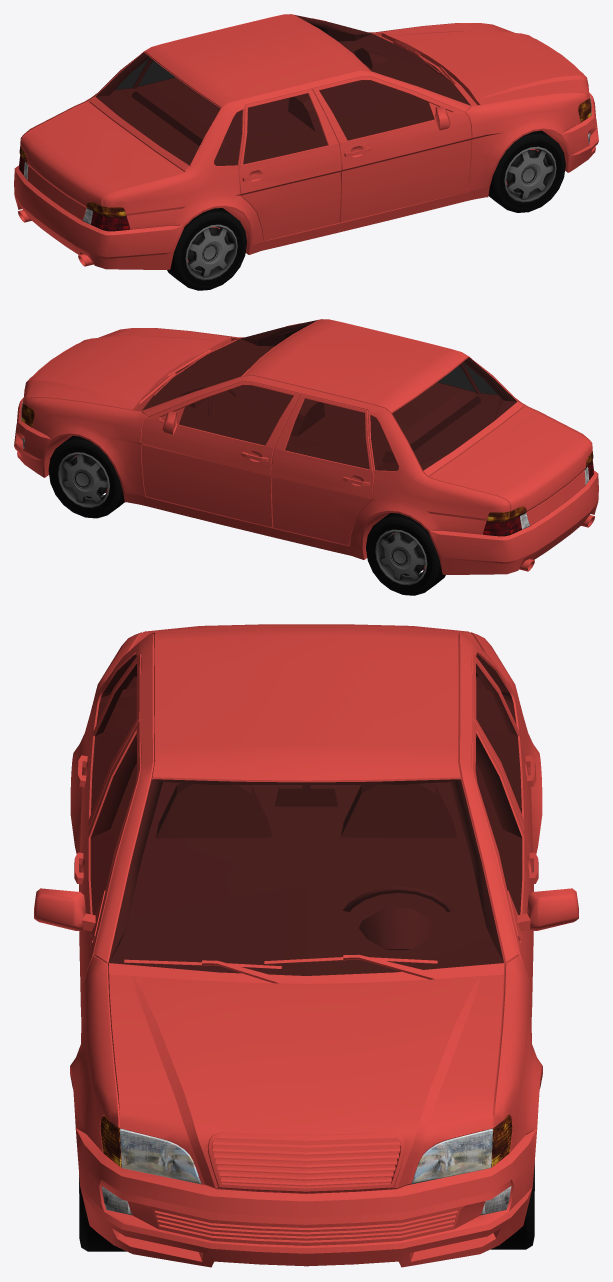
File: traffic_sedan.glb
3 views of the same model, one above another, from view 1: azimuth 30°, elevation 25°; view 2: azimuth 150°, elevation 25°; view 3: azimuth 270°, elevation 25° (orthographic). The views are drawn at different scales.
Visible parts, largest first — view 1: traffic_car2_body, traffic_car2_glass, traffic_car2_wheel_3, traffic_car2_wheel_2, traffic_car2_optics; view 2: traffic_car2_body, traffic_car2_glass, traffic_car2_wheel_1, traffic_car2_wheel_0, traffic_car2_optics; view 3: traffic_car2_body, traffic_car2_glass, traffic_car2_optics, traffic_car2_wheel_2, traffic_car2_wheel_0.
Part boxes in pixels (left/top/right/bottom): traffic_car2_body: left=14, top=14, right=598, bottom=269; traffic_car2_glass: left=95, top=15, right=470, bottom=165; traffic_car2_wheel_3: left=167, top=208, right=246, bottom=290; traffic_car2_wheel_2: left=488, top=130, right=565, bottom=212; traffic_car2_optics: left=19, top=96, right=591, bottom=231; traffic_car2_body: left=14, top=319, right=598, bottom=574; traffic_car2_glass: left=142, top=320, right=517, bottom=470; traffic_car2_wheel_1: left=366, top=513, right=445, bottom=595; traffic_car2_wheel_0: left=48, top=436, right=124, bottom=518; traffic_car2_optics: left=21, top=401, right=593, bottom=536; traffic_car2_body: left=34, top=624, right=578, bottom=1267; traffic_car2_glass: left=90, top=654, right=522, bottom=975; traffic_car2_optics: left=100, top=1115, right=512, bottom=1215; traffic_car2_wheel_2: left=79, top=1174, right=126, bottom=1251; traffic_car2_wheel_0: left=490, top=1161, right=534, bottom=1249.
Bounding box in the file's own units: 4.36 × 1.34 × 1.94.
Materials: 7 (5 with a texture image).
